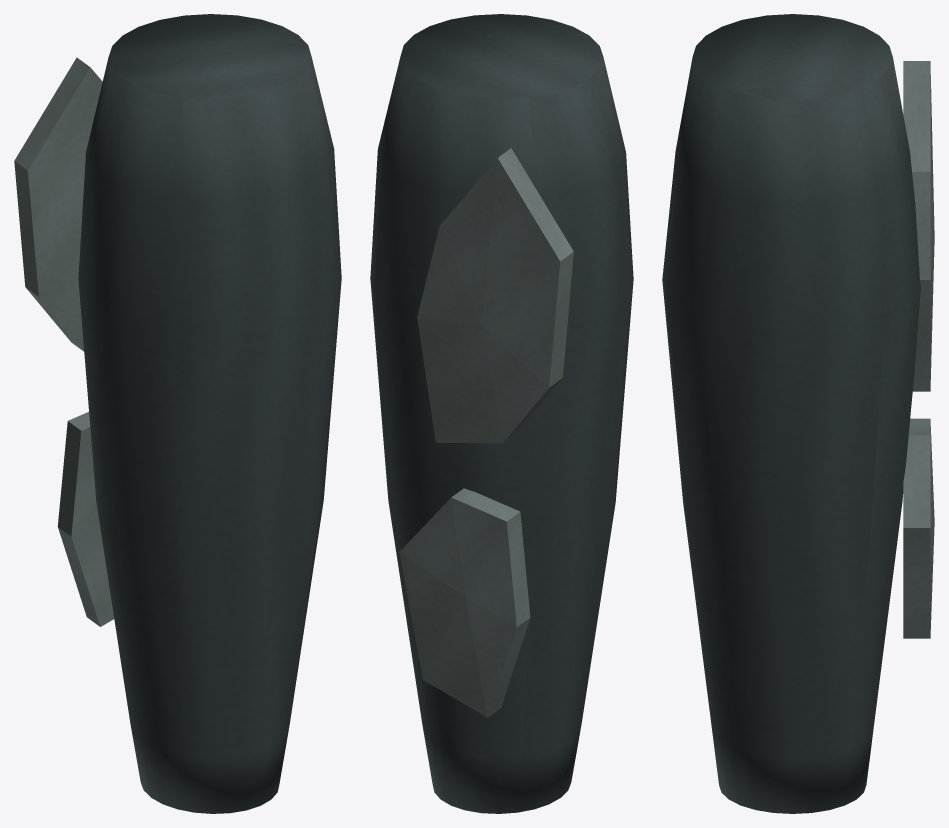
File: forearm_r_lod0.glb
The picture shows the model from 3 angles, left to right: view 1: azimuth 30°, elevation 25°; view 2: azimuth 150°, elevation 25°; view 3: azimuth 270°, elevation 25°; orthographic projection.
Parts seen in each view (by area): view 1: dormin_forearm_r_LOD0; view 2: dormin_forearm_r_LOD0; view 3: dormin_forearm_r_LOD0.
Part boxes in pixels (left/top/right/bottom): dormin_forearm_r_LOD0: left=14, top=14, right=341, bottom=813; dormin_forearm_r_LOD0: left=370, top=14, right=633, bottom=813; dormin_forearm_r_LOD0: left=662, top=14, right=934, bottom=813.
Bounding box in the file's own units: 1.48 × 4.25 × 1.44.
Materials: 2 (2 with a texture image).
